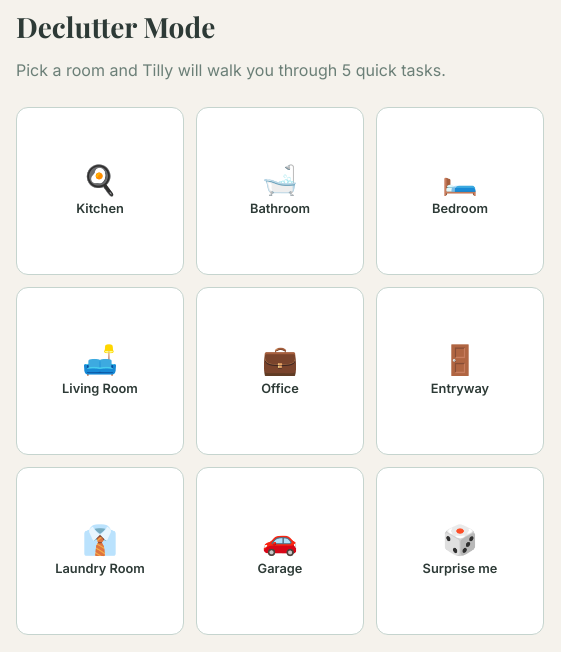
it: Declutter › session phase › renders the Done button in task view
This screenshot has width=561, height=652.
Click the button "🛏️ Bedroom" at x=460, y=191, box [376, 107, 544, 275]
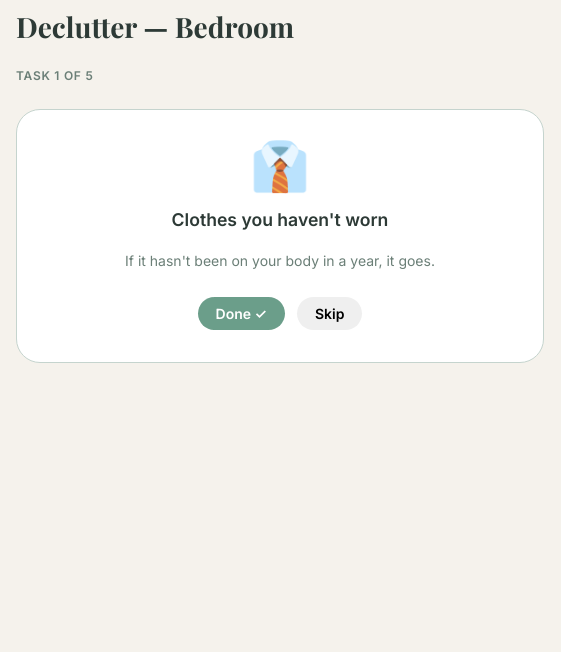
Check: the button "Done ✓" is shown, box [198, 296, 285, 330]
